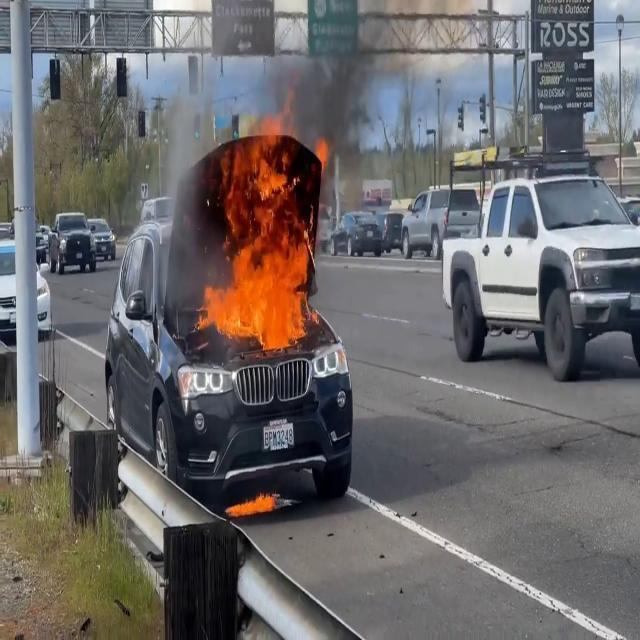Fire: (194, 113, 318, 349), (224, 486, 283, 518)
Smoke: (270, 0, 547, 181), (108, 61, 226, 316), (148, 64, 225, 314)
